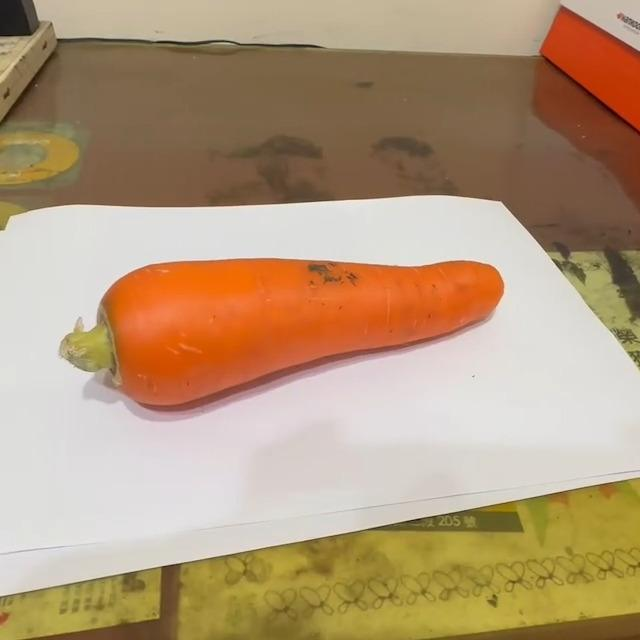carrot: (60, 257, 509, 410)
